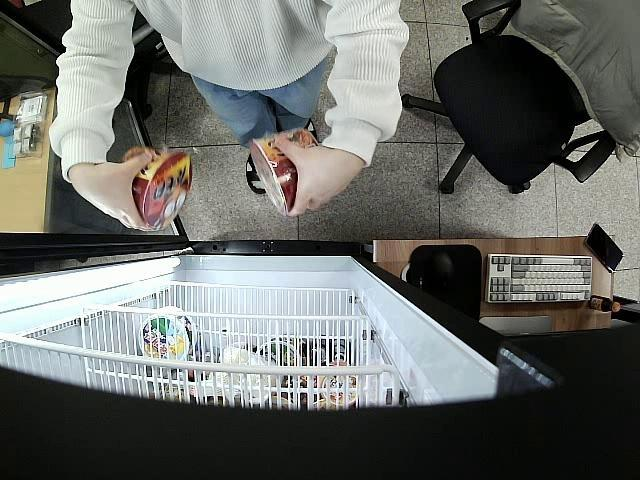05_nuguri_L: (252, 129, 320, 214), (121, 149, 192, 224)
